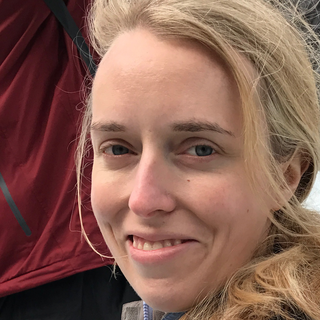eye: (97, 136, 144, 163), (169, 141, 221, 161)
